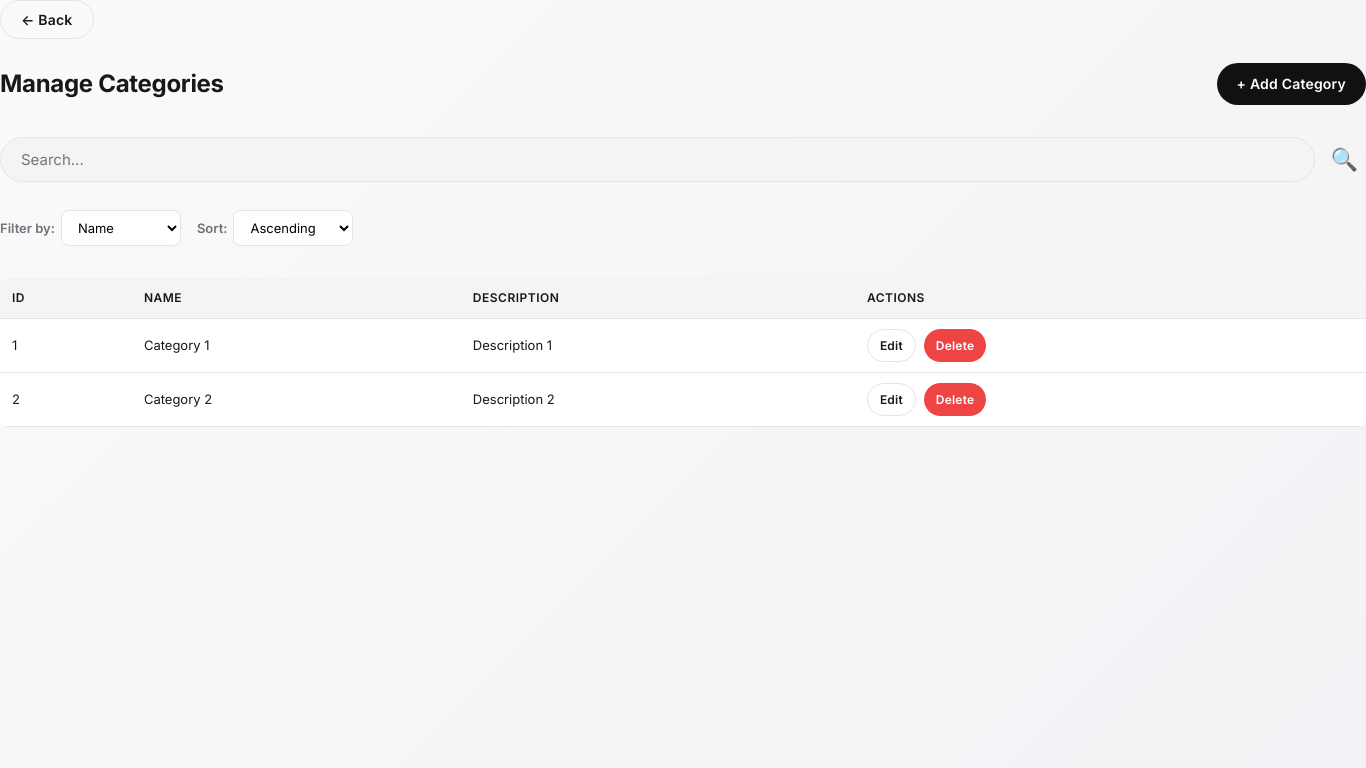
Test: AdminCategories › Delete › should show confirmation modal when delete clicked
Click the button "Delete" in the row of "Category 1" at point(955, 345), box [924,329,986,362]
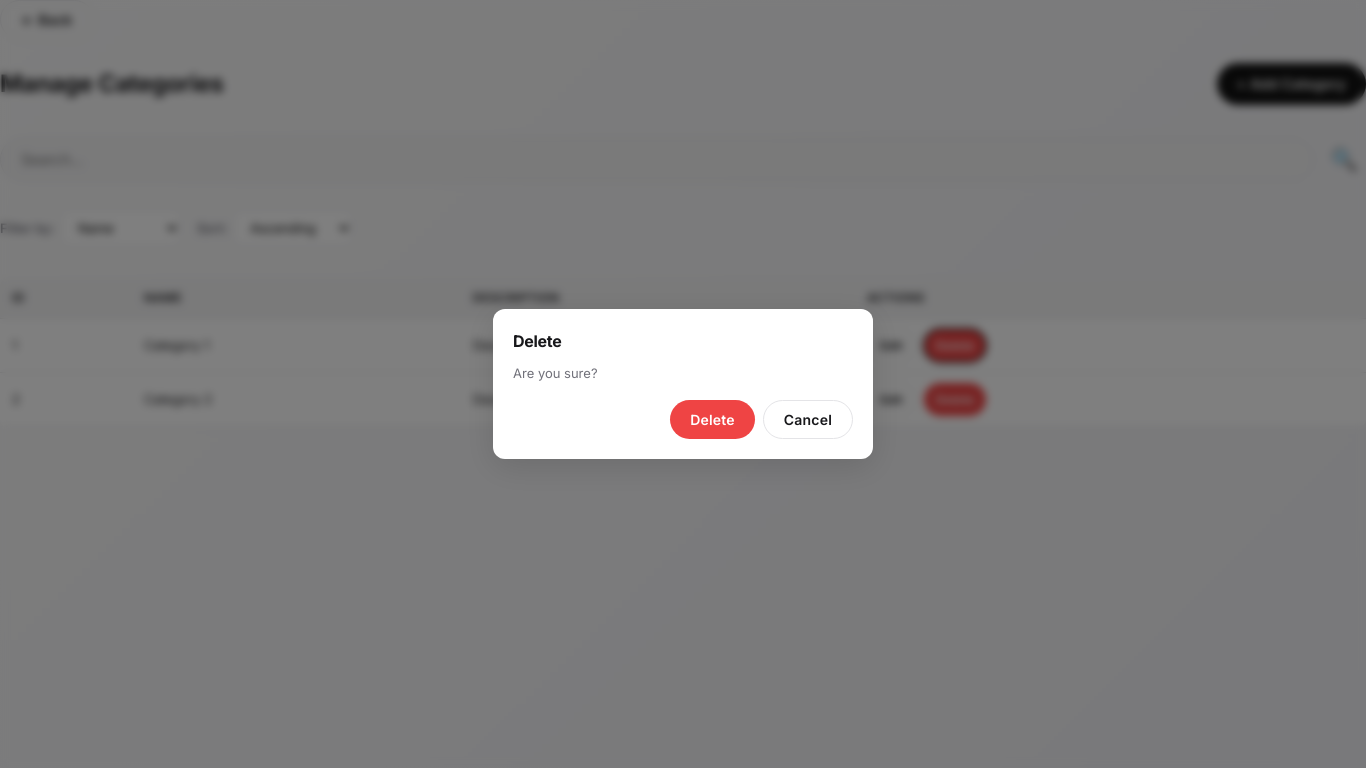
Expected: the text "Are you sure?" is shown, [513,365,598,381]
